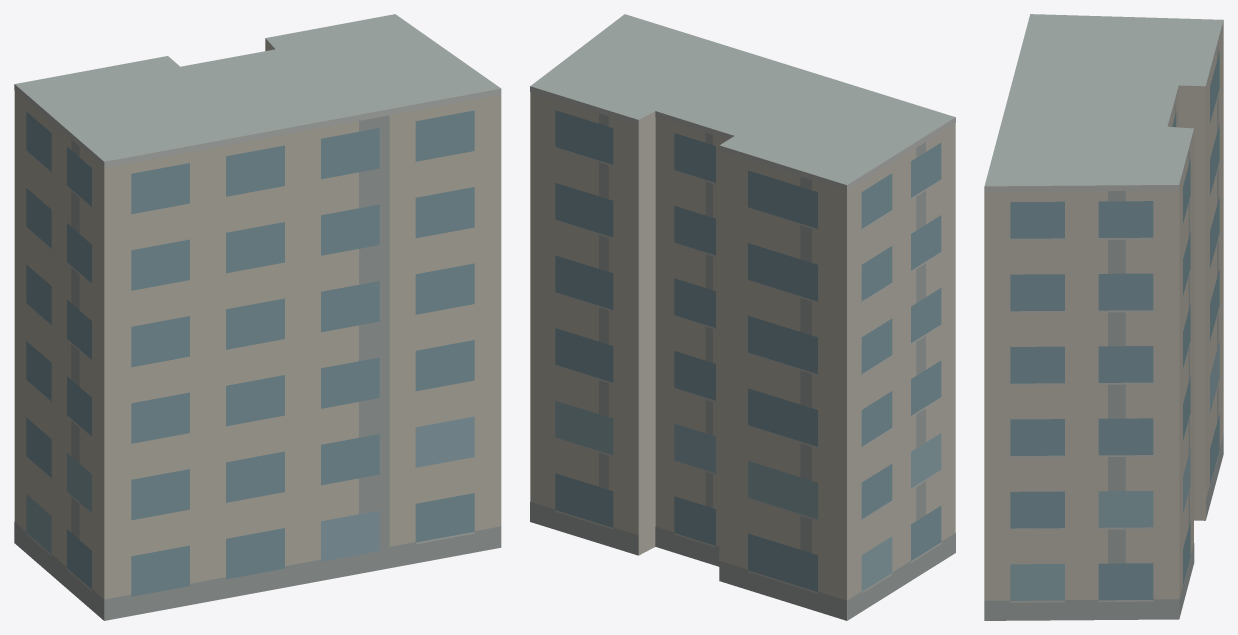
File: survey-upis-32565321.glb
The picture shows the model from 3 angles, left to right: view 1: azimuth 30°, elevation 25°; view 2: azimuth 150°, elevation 25°; view 3: azimuth 270°, elevation 25°; orthographic projection. The views are drawn at different scales.
Visible parts, largest first — view 1: survey-upis-32565321.tmp; view 2: survey-upis-32565321.tmp; view 3: survey-upis-32565321.tmp.
Part boxes in pixels (bbox=[...]): survey-upis-32565321.tmp: bbox=[14, 14, 501, 620]; survey-upis-32565321.tmp: bbox=[530, 14, 955, 620]; survey-upis-32565321.tmp: bbox=[984, 14, 1223, 620].
Size of the model in its own units: 15.57 by 18.3 by 9.14.
